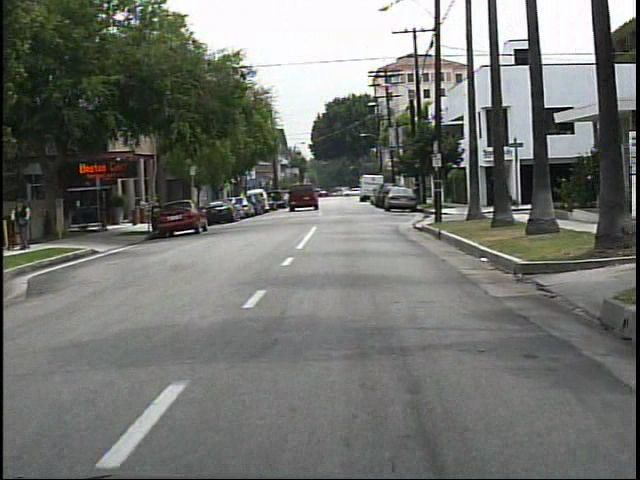person: (15, 198, 40, 252)
